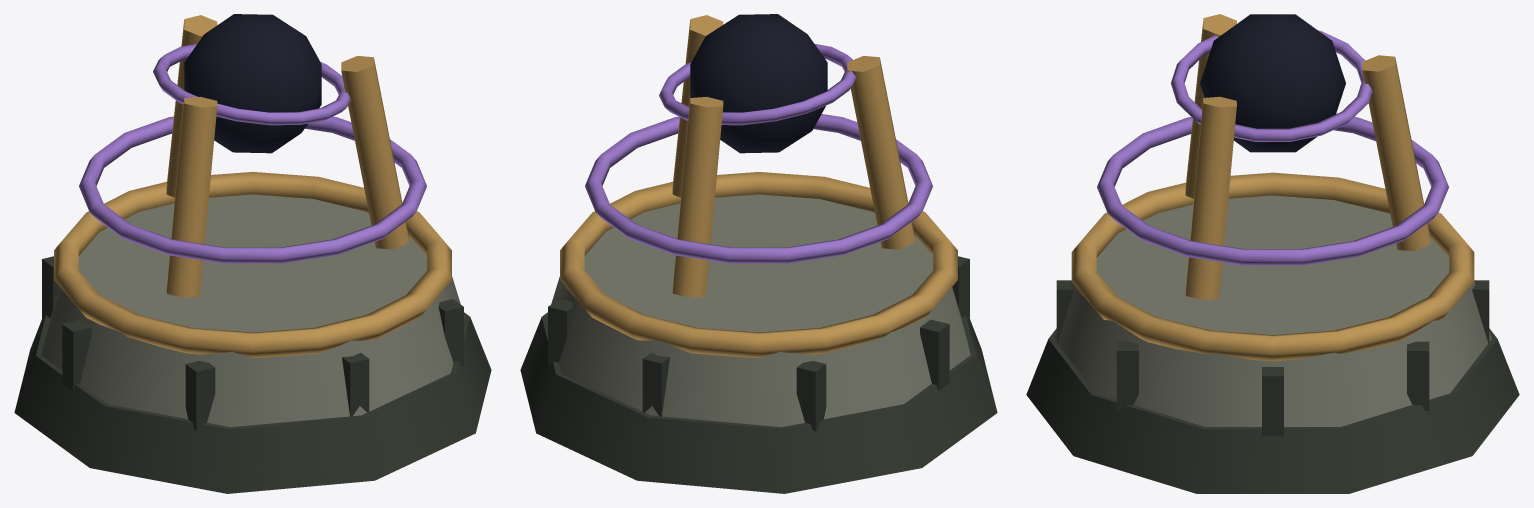
Rendered from tower_gravity_gravityResonator.glb.
3 views of the same model, side by side, from view 1: azimuth 30°, elevation 25°; view 2: azimuth 150°, elevation 25°; view 3: azimuth 270°, elevation 25° (orthographic).
Visible parts, largest first — view 1: stone_1, foot_0, rim_2, black_hole_11, pulse_16, claw_14, claw_13, accretion_15, claw_12, mortar_6, mortar_7, mortar_5 (+2 smaller); view 2: stone_1, foot_0, rim_2, black_hole_11, pulse_16, claw_12, claw_14, accretion_15, claw_13, mortar_8, mortar_7, mortar_9 (+2 smaller); view 3: stone_1, foot_0, rim_2, black_hole_11, pulse_16, claw_13, claw_12, accretion_15, claw_14, mortar_3, mortar_4, mortar_10 (+2 smaller).
Part boxes in pixels (bbox=[...]): stone_1: bbox=[41, 194, 464, 427]; foot_0: bbox=[14, 312, 491, 493]; rim_2: bbox=[54, 172, 451, 358]; black_hole_11: bbox=[184, 14, 321, 153]; pulse_16: bbox=[79, 116, 426, 263]; claw_14: bbox=[166, 96, 217, 297]; claw_13: bbox=[341, 56, 408, 249]; accretion_15: bbox=[153, 44, 350, 125]; claw_12: bbox=[166, 15, 217, 197]; mortar_6: bbox=[185, 361, 215, 431]; mortar_7: bbox=[62, 319, 91, 391]; mortar_5: bbox=[342, 352, 369, 416]; stone_1: bbox=[547, 194, 970, 427]; foot_0: bbox=[520, 312, 997, 493]; rim_2: bbox=[560, 172, 957, 358]; black_hole_11: bbox=[690, 14, 827, 153]; pulse_16: bbox=[585, 114, 932, 263]; claw_12: bbox=[672, 96, 723, 297]; claw_14: bbox=[847, 56, 914, 249]; accretion_15: bbox=[659, 43, 856, 125]; claw_13: bbox=[672, 15, 723, 197]; mortar_8: bbox=[796, 361, 826, 431]; mortar_7: bbox=[920, 319, 949, 391]; mortar_9: bbox=[642, 352, 669, 416]; stone_1: bbox=[1054, 195, 1491, 426]; foot_0: bbox=[1026, 328, 1519, 493]; rim_2: bbox=[1071, 172, 1474, 361]; black_hole_11: bbox=[1200, 14, 1345, 152]; pulse_16: bbox=[1097, 117, 1448, 265]; claw_13: bbox=[1185, 96, 1236, 299]; claw_12: bbox=[1362, 55, 1430, 251]; accretion_15: bbox=[1171, 30, 1372, 141]; claw_14: bbox=[1185, 14, 1236, 198]; mortar_3: bbox=[1262, 367, 1283, 436]; mortar_4: bbox=[1116, 341, 1138, 410]; mortar_10: bbox=[1407, 341, 1429, 410].
Bounding box in the file's own units: 0.5326 × 0.473 × 0.56.
